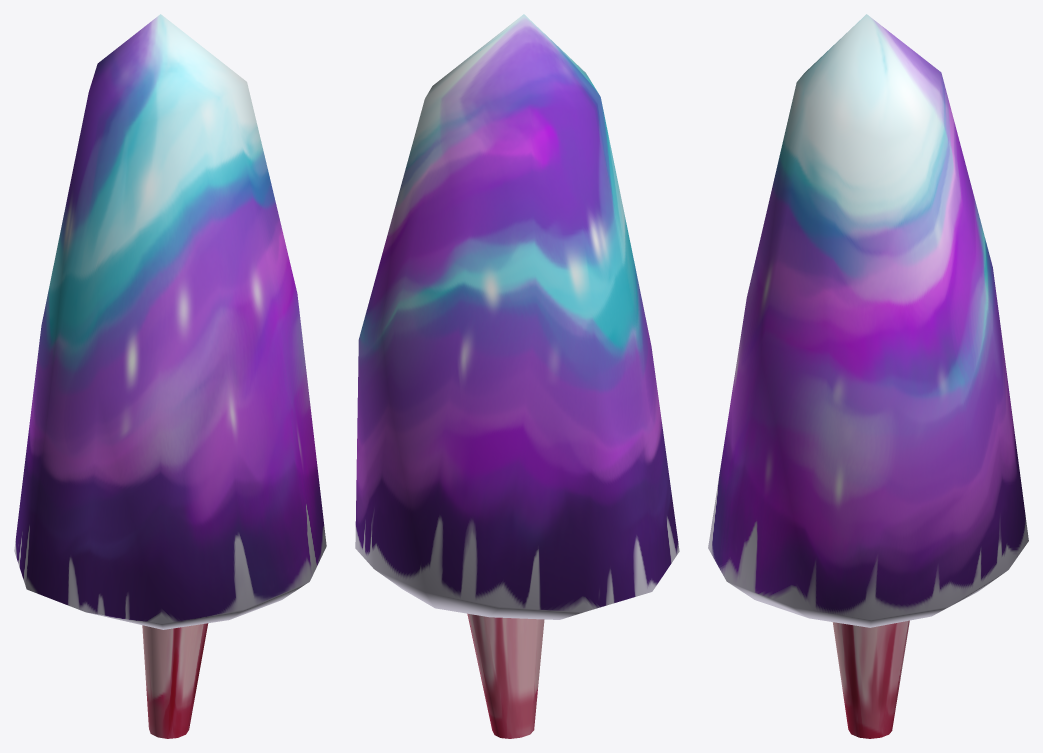
Rendered from SM_ENV_graveyard_shroom_01.fbx.
3 views of the same model, side by side, from view 1: azimuth 30°, elevation 25°; view 2: azimuth 150°, elevation 25°; view 3: azimuth 270°, elevation 25° (orthographic).
Parts seen in each view (by area): view 1: SM_ENV_graveyard_shroom_01; view 2: SM_ENV_graveyard_shroom_01; view 3: SM_ENV_graveyard_shroom_01.
Boxes of the visible parts, <box> form: SM_ENV_graveyard_shroom_01: <box>14,14,326,738</box>; SM_ENV_graveyard_shroom_01: <box>355,14,679,738</box>; SM_ENV_graveyard_shroom_01: <box>708,14,1028,738</box>.
Size of the model in its own units: 15.41 by 37.93 by 15.5.
